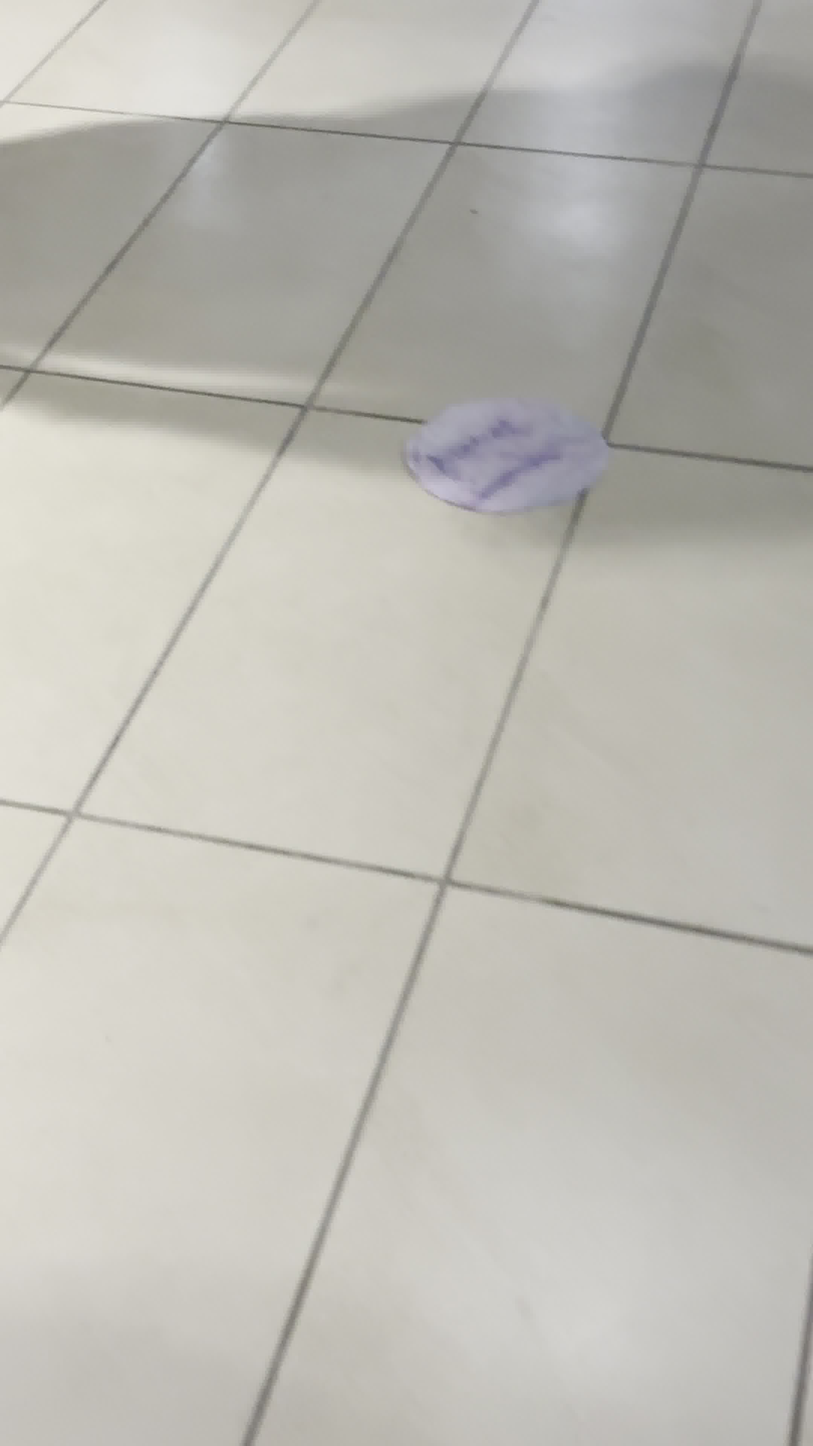Target: (400, 395, 613, 516)
